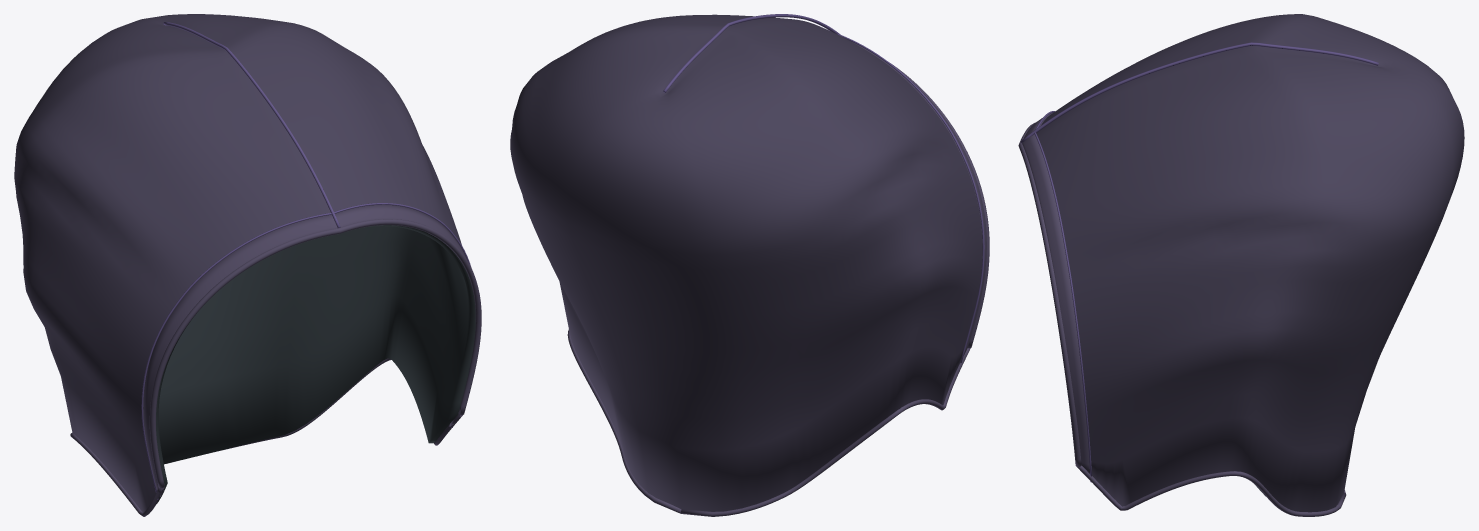
The model's file is shadow-hood.glb.
3 renders of one model, left to right at view 1: azimuth 30°, elevation 25°; view 2: azimuth 150°, elevation 25°; view 3: azimuth 270°, elevation 25°, orthographic. The views are drawn at different scales.
Parts seen in each view (by area): view 1: Continuous draped cloth hood, Folded face opening hem, Soft rolled outer lip, Inset stitched hem line, Tailored crown seam, Soft lower cloth edge; view 2: Continuous draped cloth hood, Soft lower cloth edge, Folded face opening hem, Soft rolled outer lip, Inset stitched hem line, Soft lower cloth edge.001, Tailored crown seam; view 3: Continuous draped cloth hood, Folded face opening hem, Soft rolled outer lip, Soft lower cloth edge.001, Tailored crown seam, Inset stitched hem line.
Part boxes in pixels (x1,y1,x2,y2): Continuous draped cloth hood: [14, 14, 475, 512]; Folded face opening hem: [143, 204, 475, 496]; Soft rolled outer lip: [149, 219, 481, 488]; Inset stitched hem line: [141, 203, 471, 499]; Tailored crown seam: [163, 22, 340, 228]; Soft lower cloth edge: [70, 432, 163, 516]; Continuous draped cloth hood: [510, 14, 982, 511]; Soft lower cloth edge: [681, 348, 970, 516]; Folded face opening hem: [851, 41, 986, 355]; Soft rolled outer lip: [889, 62, 989, 348]; Inset stitched hem line: [838, 34, 984, 363]; Soft lower cloth edge.001: [567, 329, 681, 513]; Tailored crown seam: [663, 14, 840, 92]; Continuous draped cloth hood: [1036, 14, 1464, 512]; Folded face opening hem: [1022, 113, 1089, 473]; Soft rolled outer lip: [1018, 122, 1081, 466]; Soft lower cloth edge.001: [1077, 465, 1346, 516]; Tailored crown seam: [1020, 42, 1378, 142]; Inset stitched hem line: [1034, 111, 1091, 482].
Bounding box in the file's own units: 0.8066 × 0.8717 × 0.7755.
